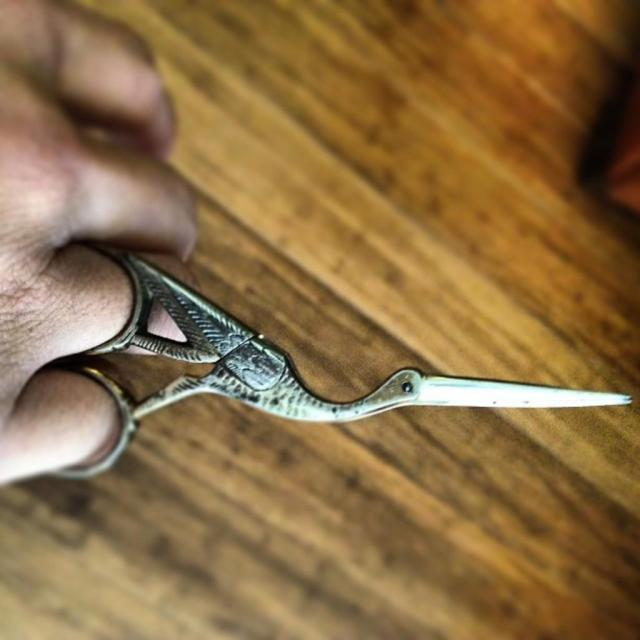scissor: (47, 242, 630, 481)
